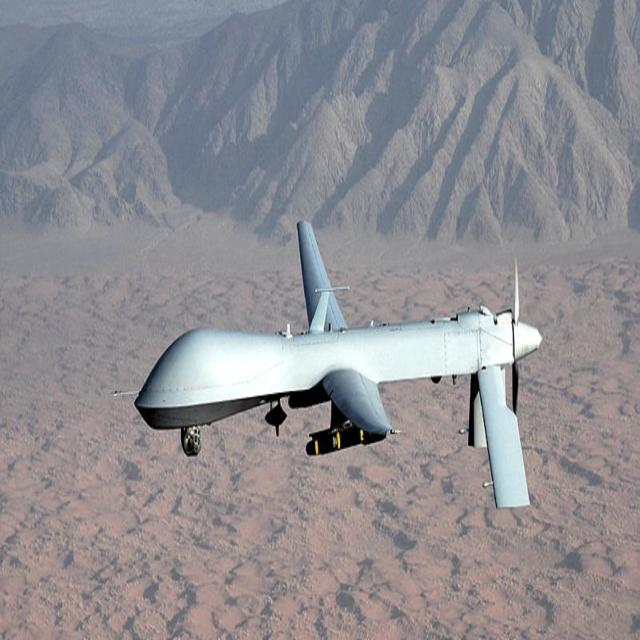iha: (135, 216, 544, 514)
